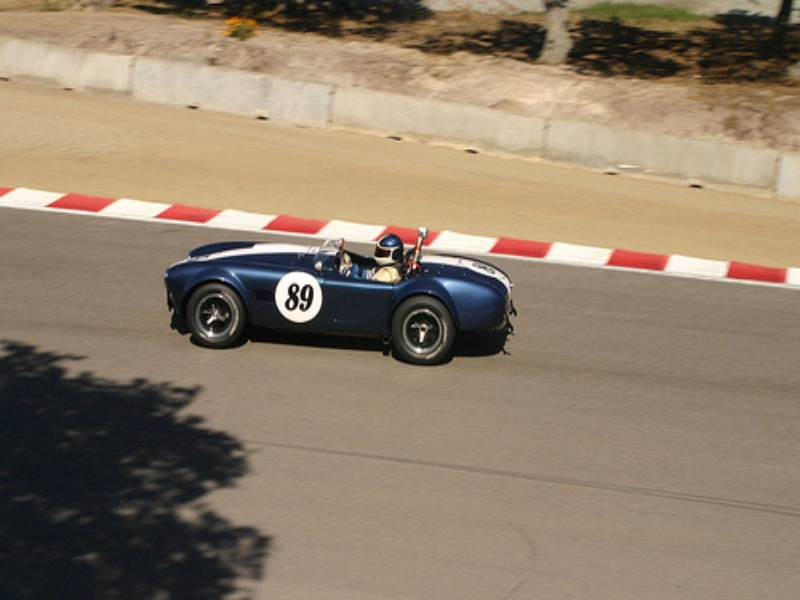car: (165, 241, 514, 367)
person: (340, 233, 405, 280)
